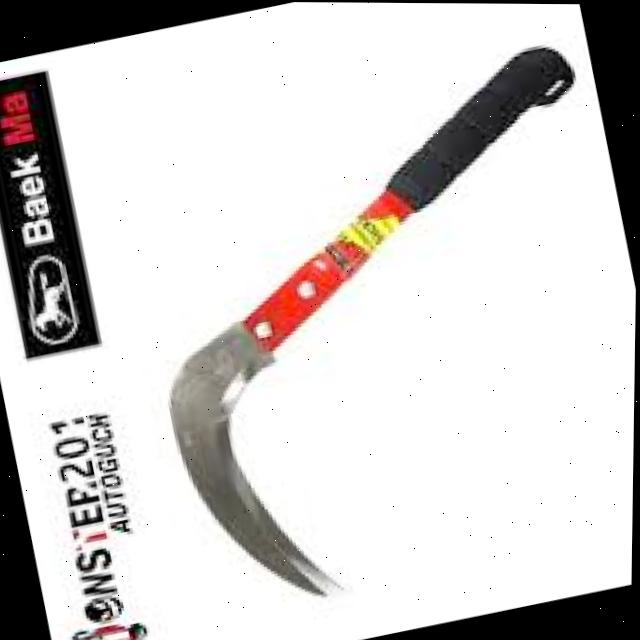sickle: (67, 0, 640, 640)
